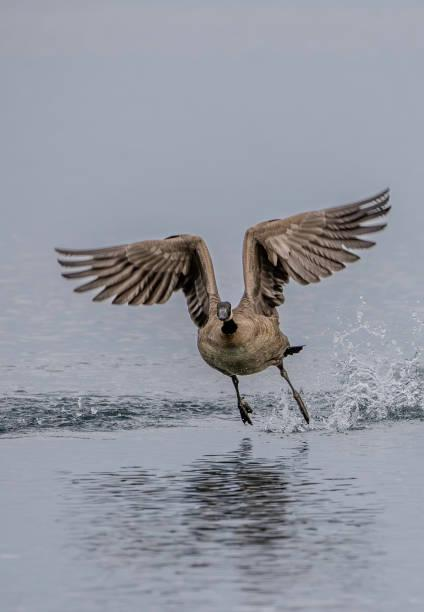Canadian-Goose: (51, 194, 392, 429)
